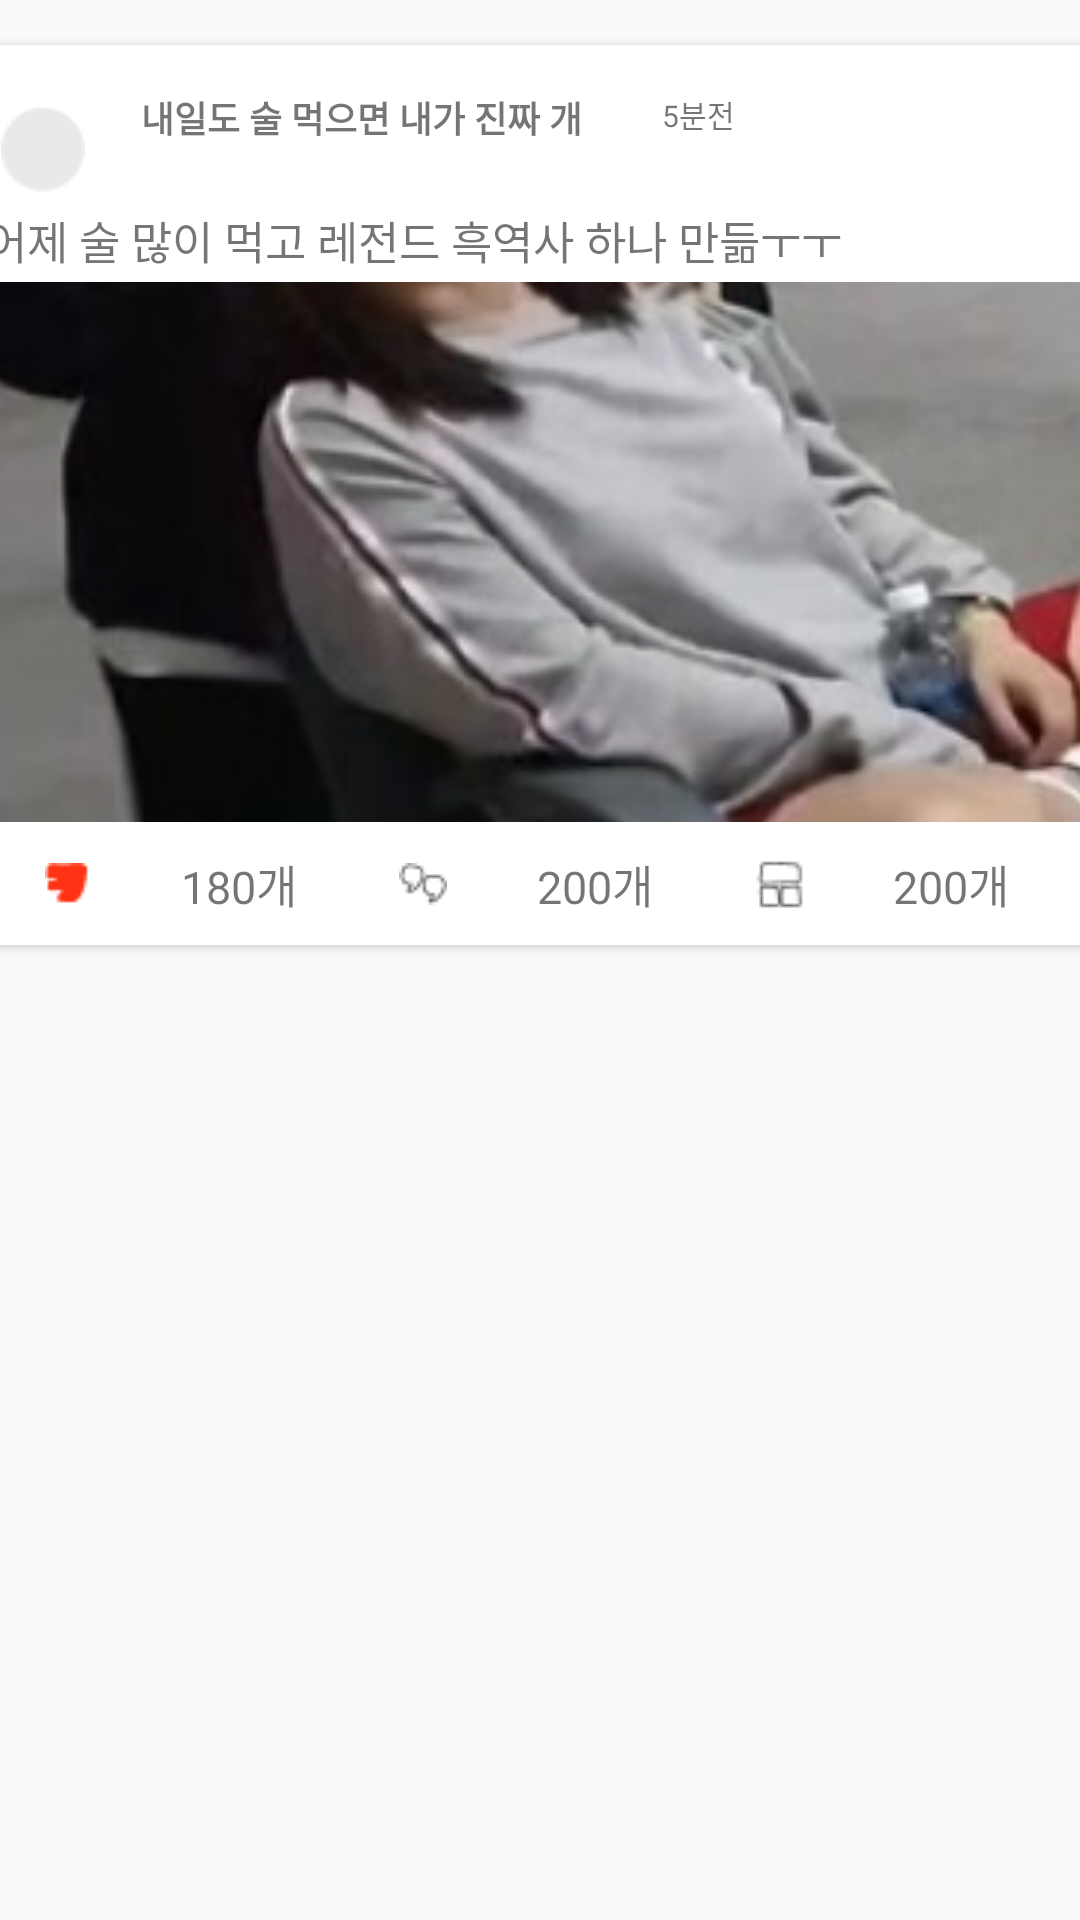

Named icons in this screenshot (1080*1920) and their centers, (x=x, y=y):
comment: (x=423, y=884)
like: (x=66, y=883)
scrap: (x=780, y=884)
